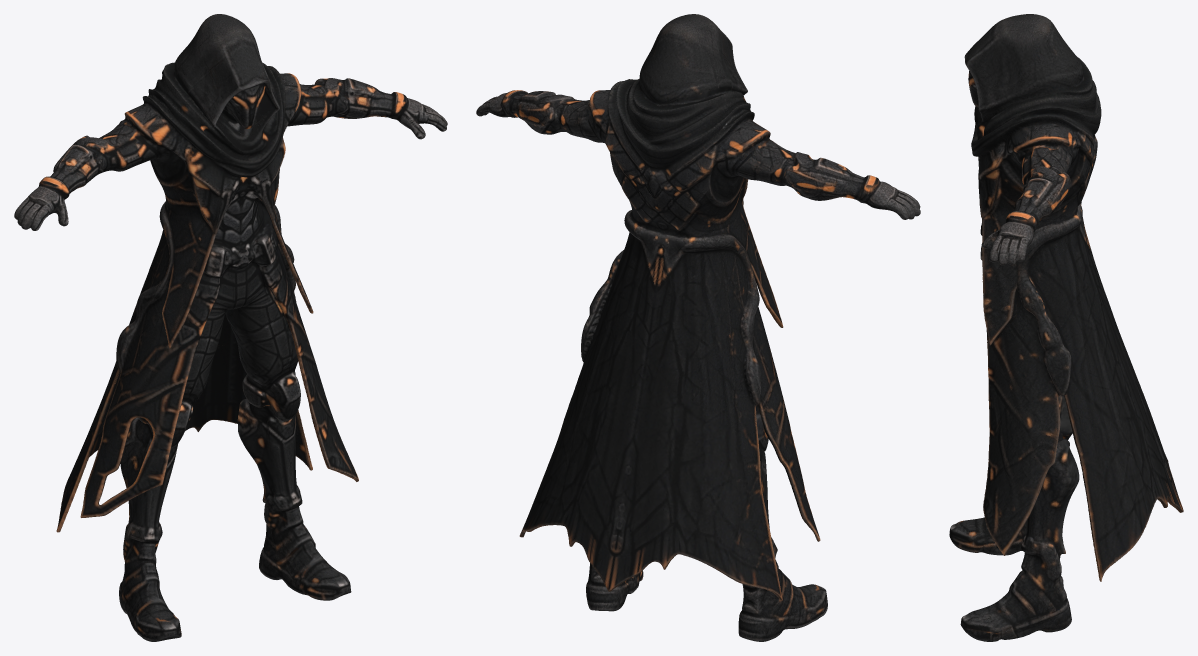
Rendered from Ficha de Referência da Armadura Orion - NIVEL 3 3D.glb.
3 renders of one model, left to right at view 1: azimuth 30°, elevation 25°; view 2: azimuth 150°, elevation 25°; view 3: azimuth 270°, elevation 25°, orthographic. The views are drawn at different scales.
Bounding box in the file's own units: 1.45 × 1.9 × 0.6971.
1 material, 1 textured.
